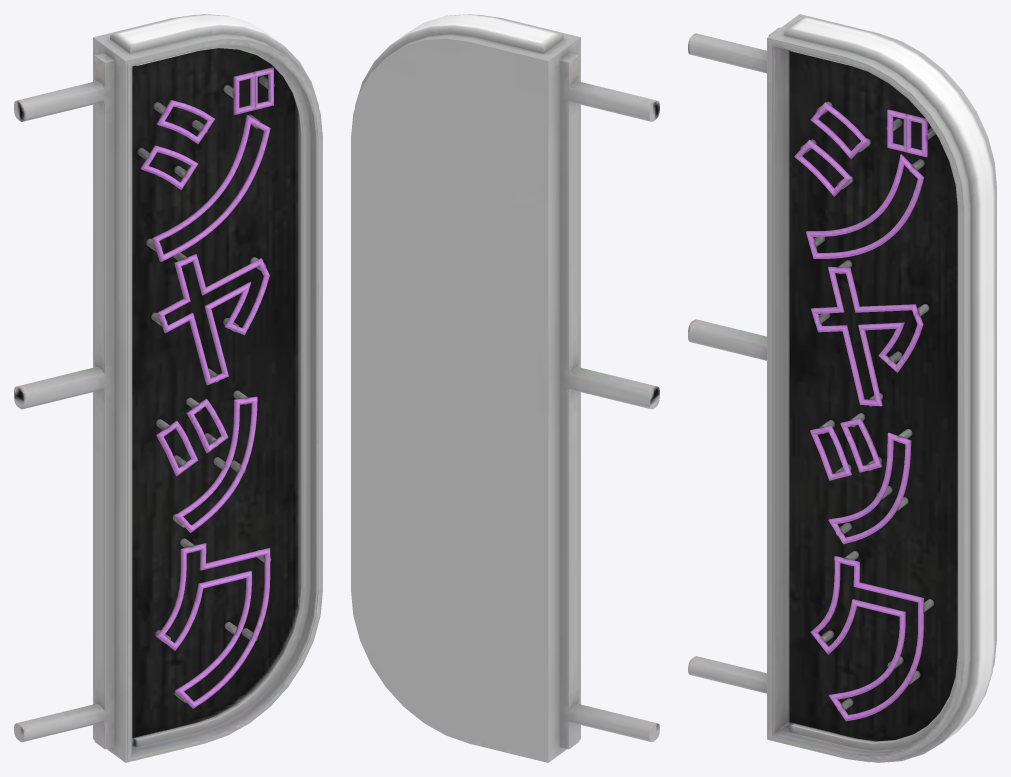
Rendered from neon_street.glb.
3 renders of one model, left to right at view 1: azimuth 30°, elevation 25°; view 2: azimuth 150°, elevation 25°; view 3: azimuth 330°, elevation 25°, orthographic.
Parts seen in each view (by area): view 1: Object_2; view 2: Object_2; view 3: Object_2.
Boxes of the visible parts, x1,y1,x2,y2 form: Object_2: (14, 14, 322, 762); Object_2: (351, 14, 659, 762); Object_2: (688, 14, 996, 762).
Bounding box in the file's own units: 0.43 × 1 × 0.0835.
1 material, 1 textured.
